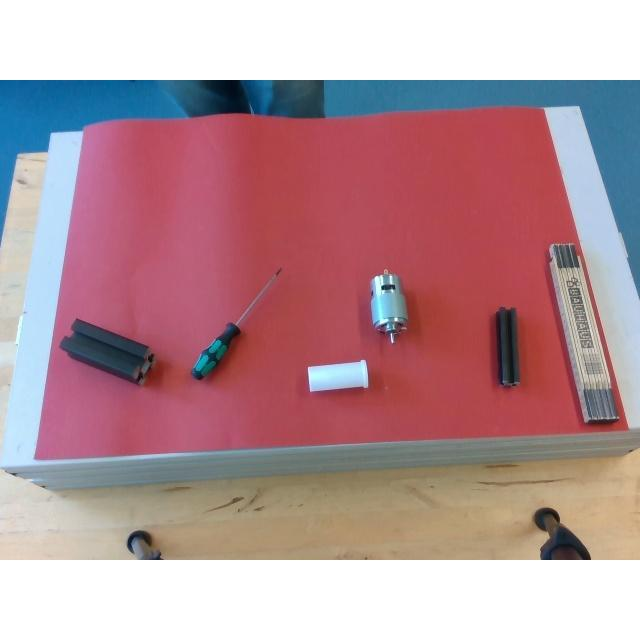F20_20_B: (494, 308, 518, 384)
Motor2: (369, 272, 406, 341)
S40_40_B: (59, 318, 152, 382)
Screwdriver: (190, 268, 282, 377)
Spacer: (307, 359, 368, 391)
